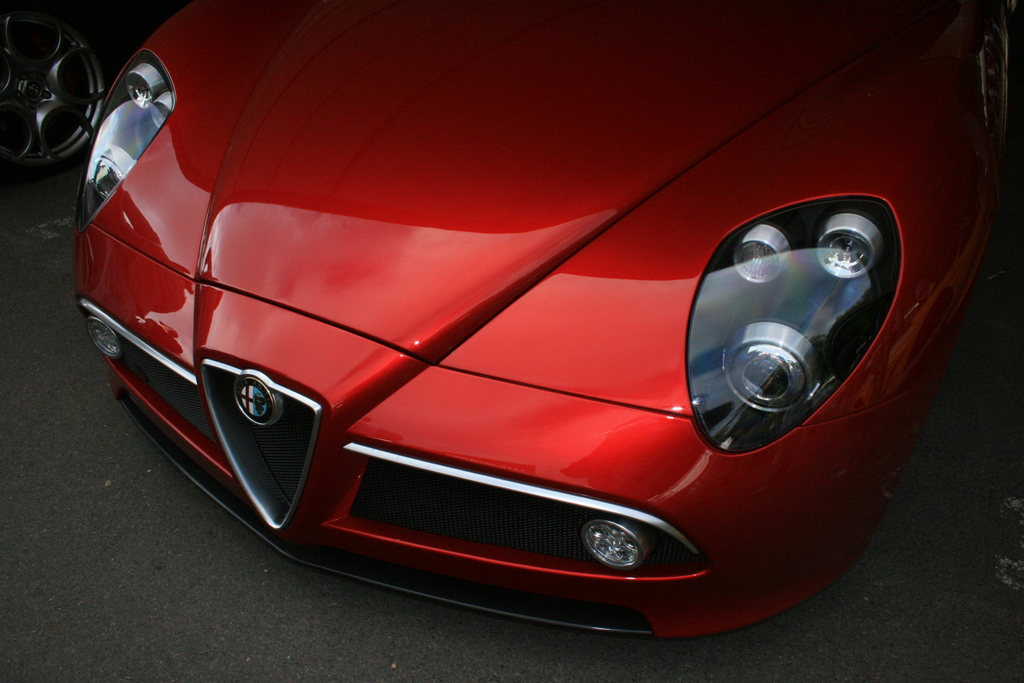Car: (83, 24, 961, 675)
